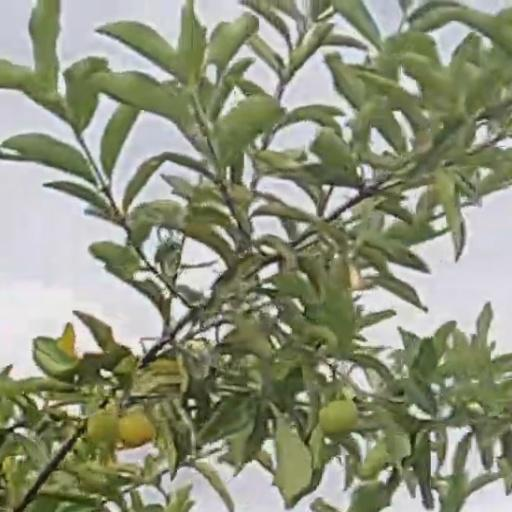acerola: (118, 413, 155, 447), (89, 413, 115, 439)
